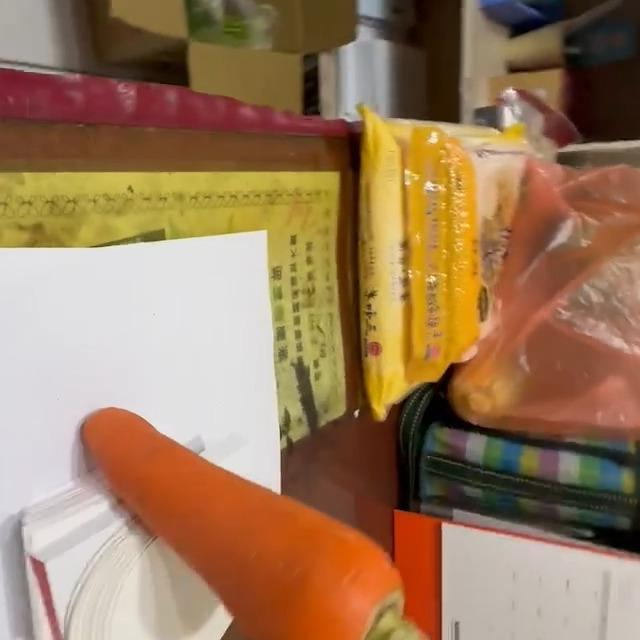carrot: (79, 404, 431, 640)
